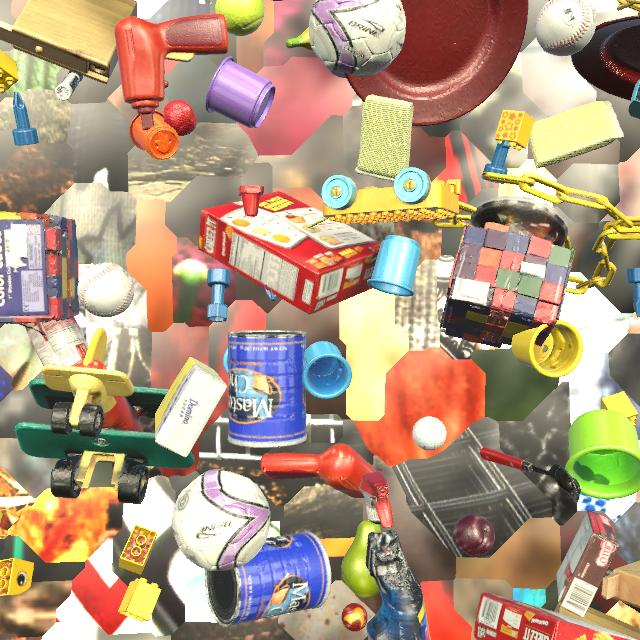ycb_002_master_chef_can: (205, 531, 331, 627), (227, 330, 307, 448)
ycb_003_cracker_box: (198, 191, 381, 314), (474, 592, 640, 640)
ycb_004_sugar_box: (155, 357, 227, 458), (0, 512, 3, 522)
ycb_005_tomato_soup_can: (23, 317, 89, 366)
ycb_008_pudding_box: (556, 510, 619, 618)
ycb_011_banana: (286, 27, 313, 51)
ycb_012_strawberry: (163, 100, 197, 136)
ycb_016_pear: (341, 518, 381, 598)
ycb_018_plum: (453, 513, 495, 556)
